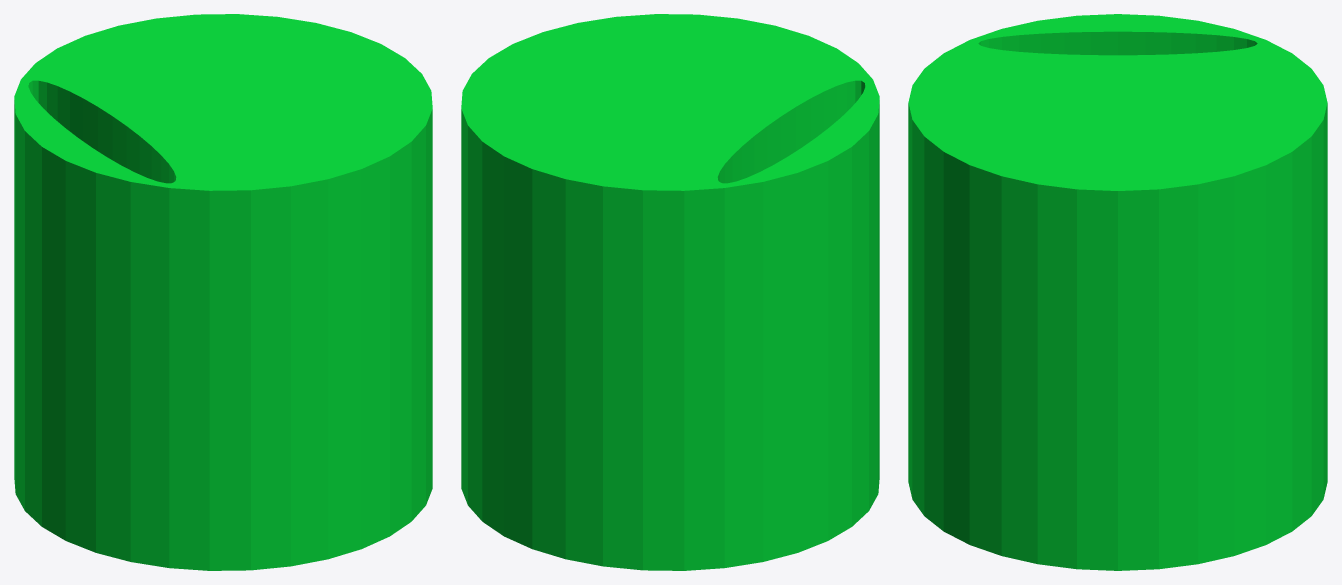
The picture shows the model from 3 angles, left to right: view 1: azimuth 30°, elevation 25°; view 2: azimuth 150°, elevation 25°; view 3: azimuth 270°, elevation 25°; orthographic projection.
Visible parts, largest first — view 1: tmp_export_Cylinder.009; view 2: tmp_export_Cylinder.009; view 3: tmp_export_Cylinder.009.
Boxes of the visible parts, bbox=[...] form: tmp_export_Cylinder.009: bbox=[14, 14, 432, 570]; tmp_export_Cylinder.009: bbox=[461, 14, 879, 570]; tmp_export_Cylinder.009: bbox=[908, 14, 1327, 570].
Size of the model in its own units: 2 by 2 by 2.
